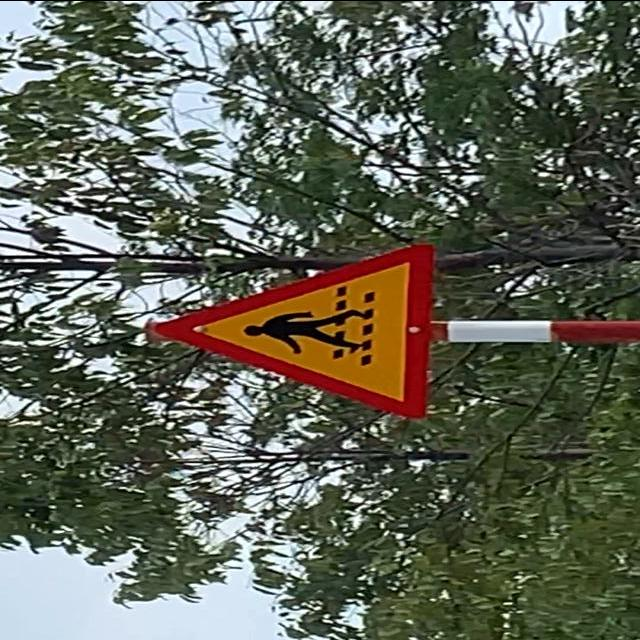W-224: (144, 238, 436, 418)
